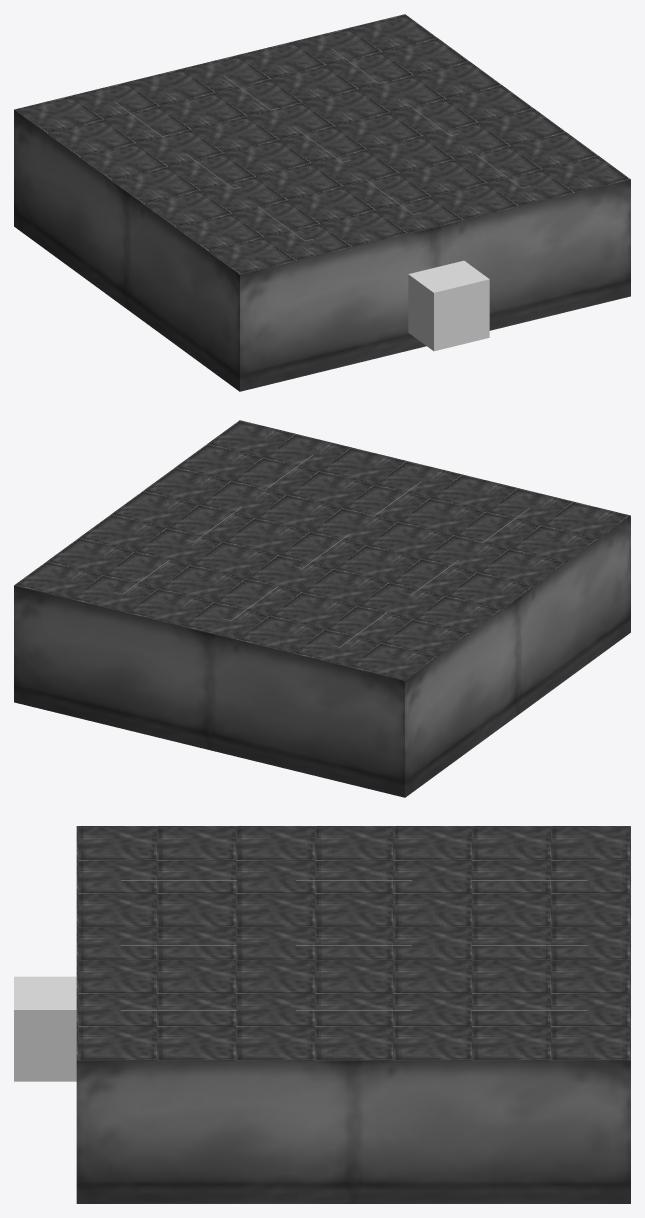
File: room.glb
3 renders of one model, top to bottom at view 1: azimuth 30°, elevation 25°; view 2: azimuth 150°, elevation 25°; view 3: azimuth 270°, elevation 25°, orthographic. The views are drawn at different scales.
Visible parts, largest first — view 1: ceiling_main, wall_back, wall_left, door_gallery; view 2: ceiling_main, wall_front, wall_left; view 3: ceiling_main, wall_right, door_gallery.
Part boxes in pixels (x1,y1,x2,y2): ceiling_main: (14, 14, 630, 274); wall_back: (240, 179, 630, 391); wall_left: (14, 110, 239, 391); door_gallery: (408, 260, 489, 351); ceiling_main: (14, 420, 630, 680); wall_front: (14, 585, 404, 797); wall_left: (405, 516, 630, 797); ceiling_main: (76, 826, 630, 1060); wall_right: (76, 1060, 630, 1203); door_gallery: (14, 976, 76, 1081).
Bounding box in the file's own units: 14 × 4.03 × 15.59.
3 materials, 3 textured.
